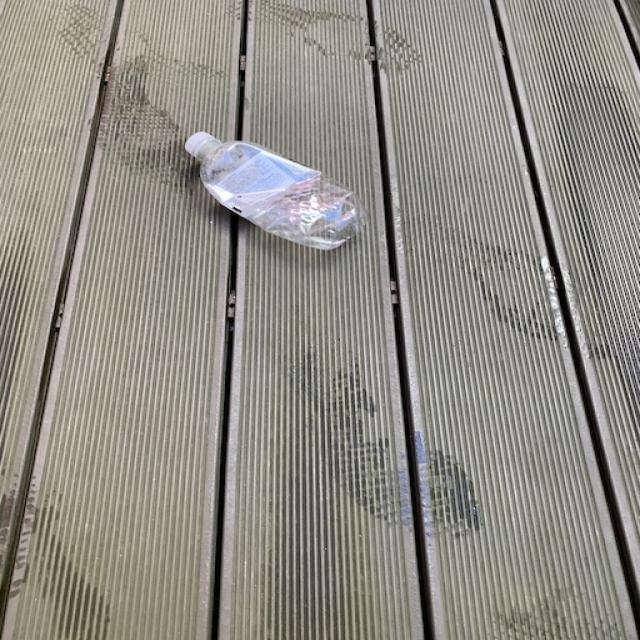Waste: (185, 131, 365, 250)
